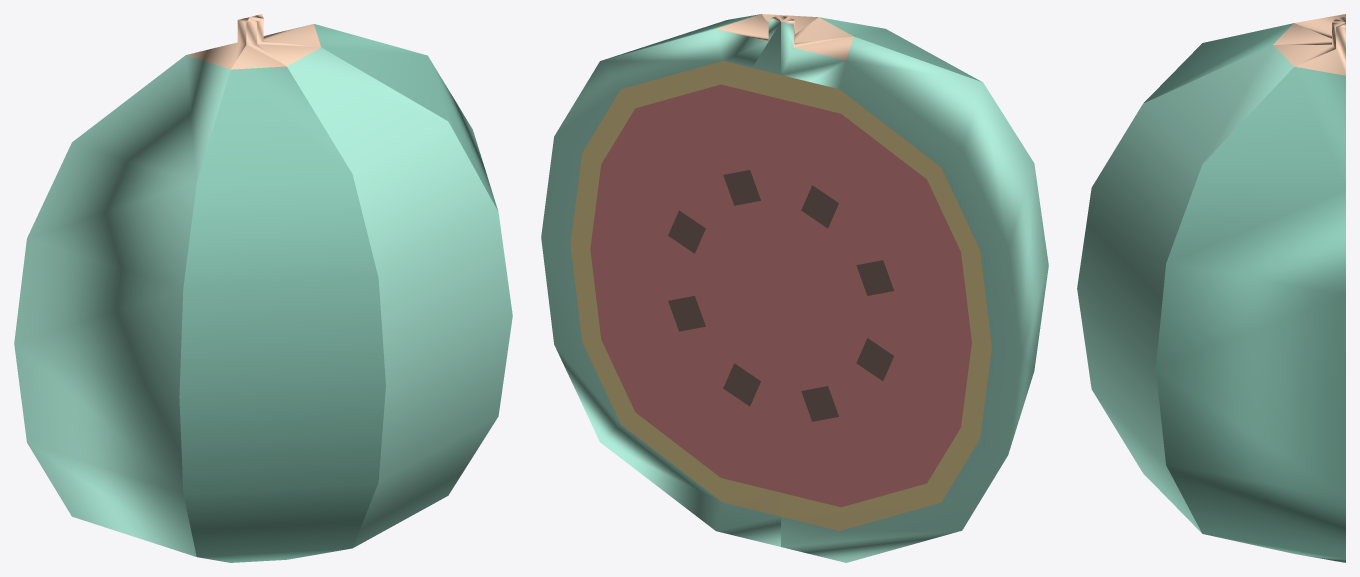
Rendered from WatermellonHalf.fbx.
3 views of the same model, side by side, from view 1: azimuth 30°, elevation 25°; view 2: azimuth 150°, elevation 25°; view 3: azimuth 270°, elevation 25° (orthographic). The views are drawn at different scales.
Visible parts, largest first — view 1: slice.002; view 2: slice.002; view 3: slice.002.
Part boxes in pixels (x1,y1,x2,y2): slice.002: [14, 14, 512, 562]; slice.002: [541, 14, 1048, 562]; slice.002: [1077, 14, 1345, 562].
Bounding box in the file's own units: 45.54 × 47.61 × 22.77.
